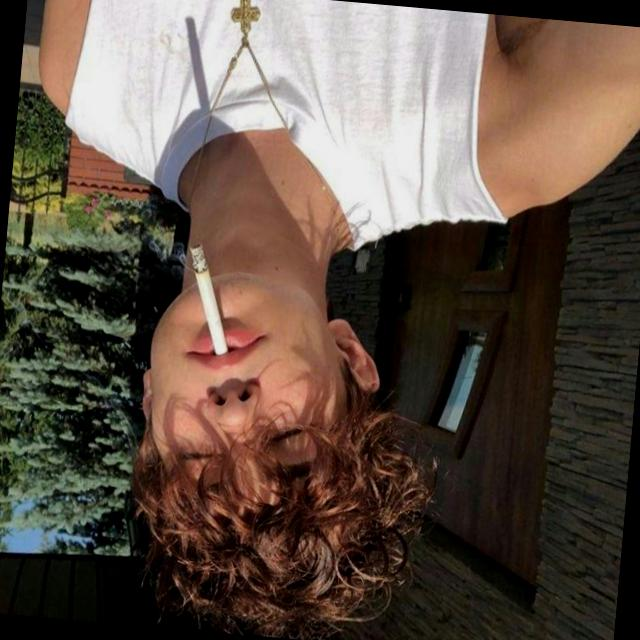smoke: (156, 230, 250, 385)
